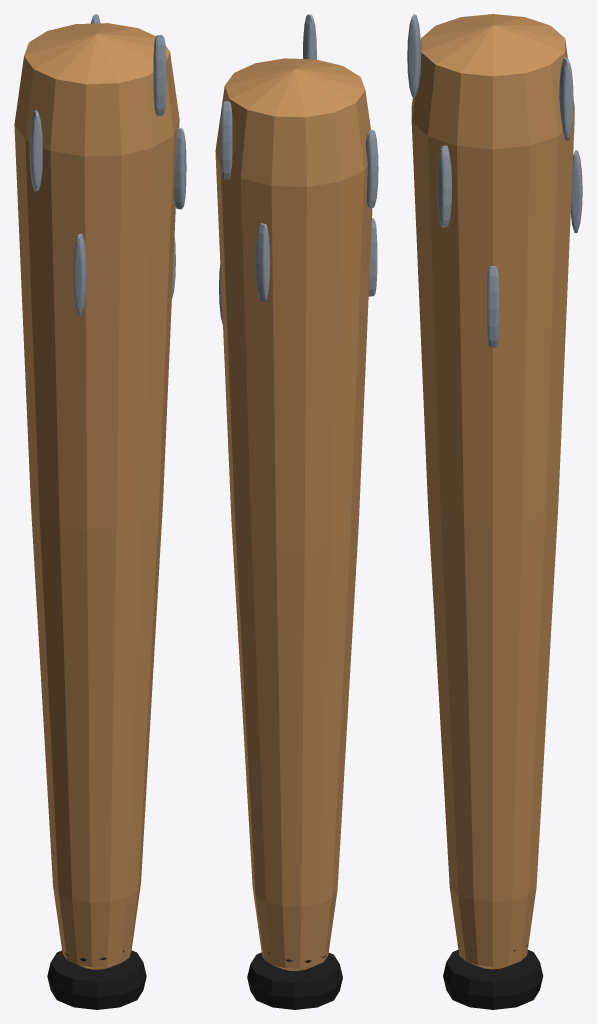
Rendered from m-bat.glb.
3 renders of one model, left to right at view 1: azimuth 30°, elevation 25°; view 2: azimuth 150°, elevation 25°; view 3: azimuth 270°, elevation 25°, orthographic. The views are drawn at different scales.
Parts seen in each view (by area): view 1: melee; view 2: melee; view 3: melee.
Boxes of the visible parts, x1,y1,x2,y2 form: melee: [14, 14, 186, 1009]; melee: [215, 14, 378, 1009]; melee: [407, 14, 582, 1009].
Size of the model in its own units: 0.4258 by 2.61 by 0.4197.
